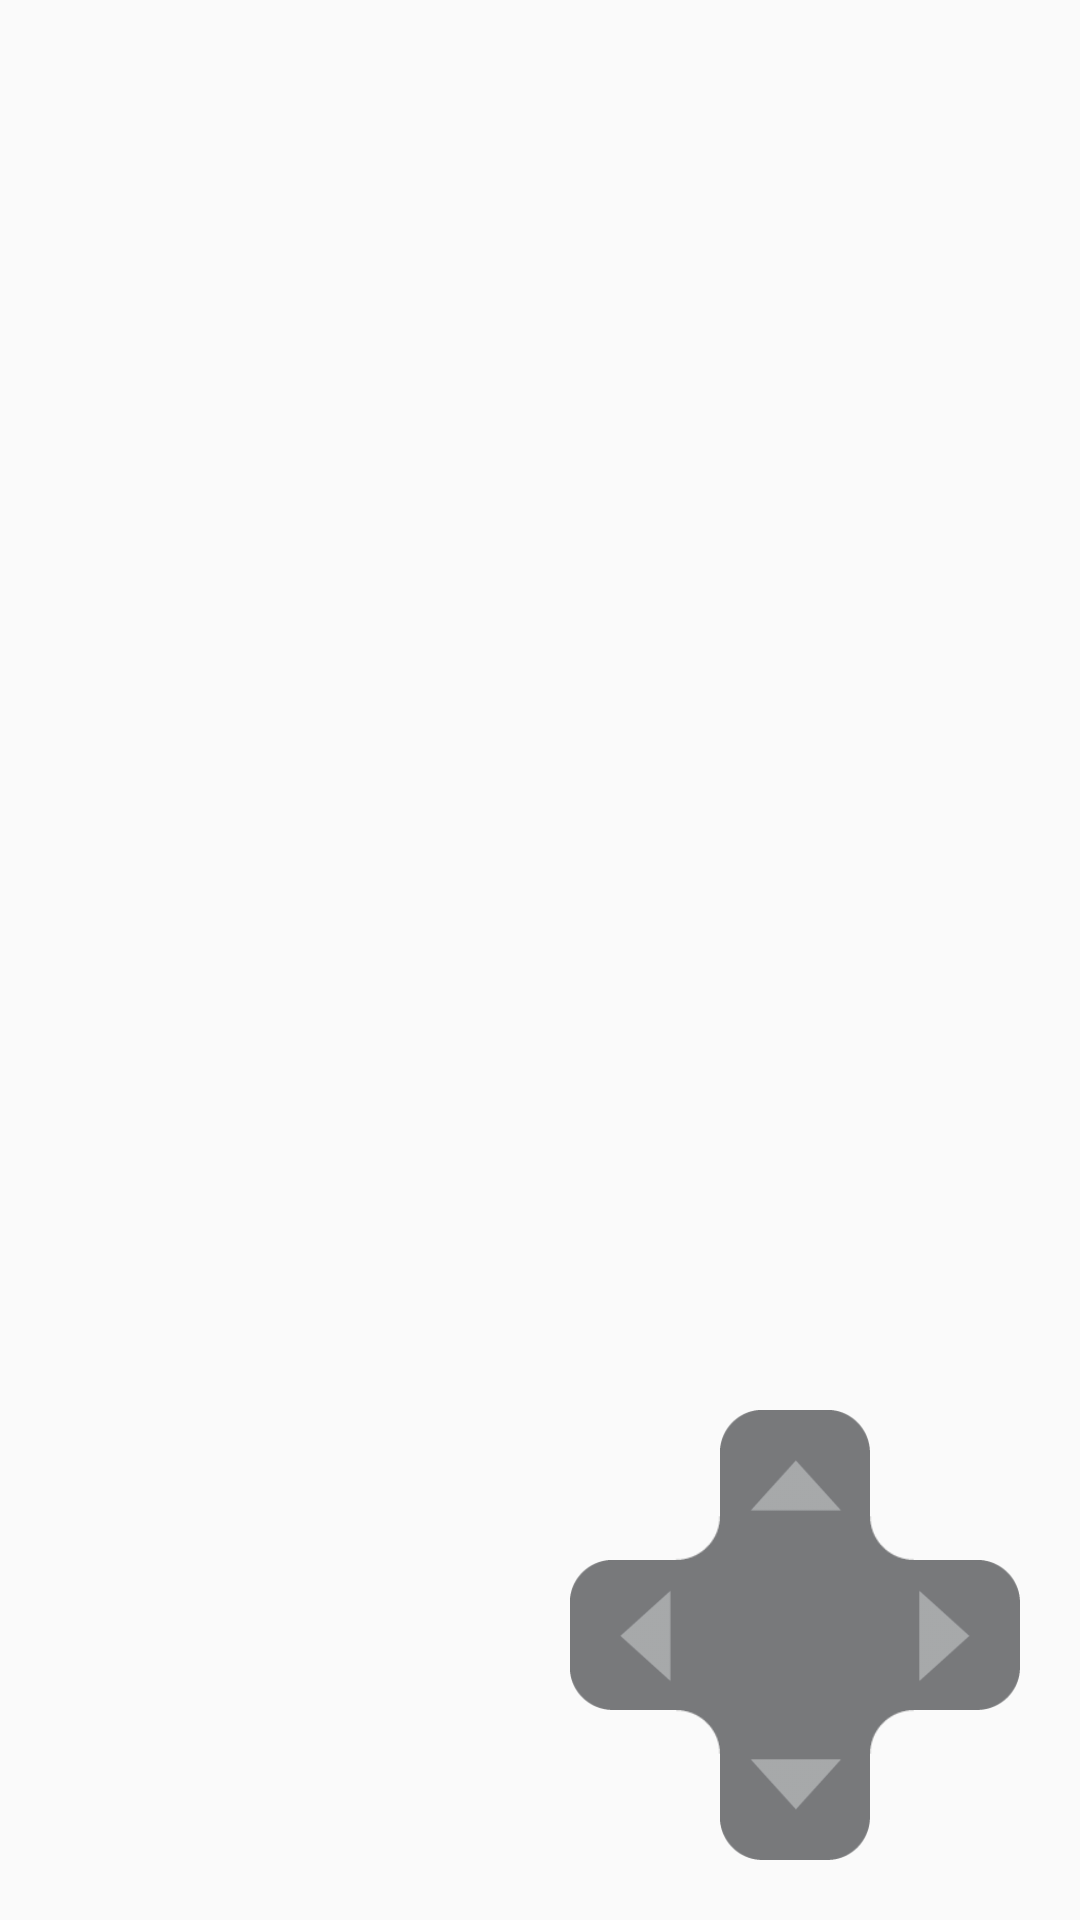

Where icons sit on this 1080px×1920px app screen, as (x1, y1, x2, y2):
pad down: (720, 1710, 870, 1860)
pad left: (570, 1560, 720, 1710)
pad right: (870, 1560, 1020, 1710)
pad up: (720, 1410, 870, 1560)
